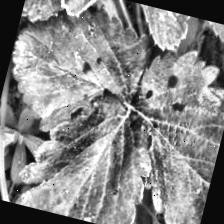Leaf Spot: (0, 0, 161, 153), (10, 71, 167, 224), (102, 37, 224, 224), (19, 0, 115, 41)
